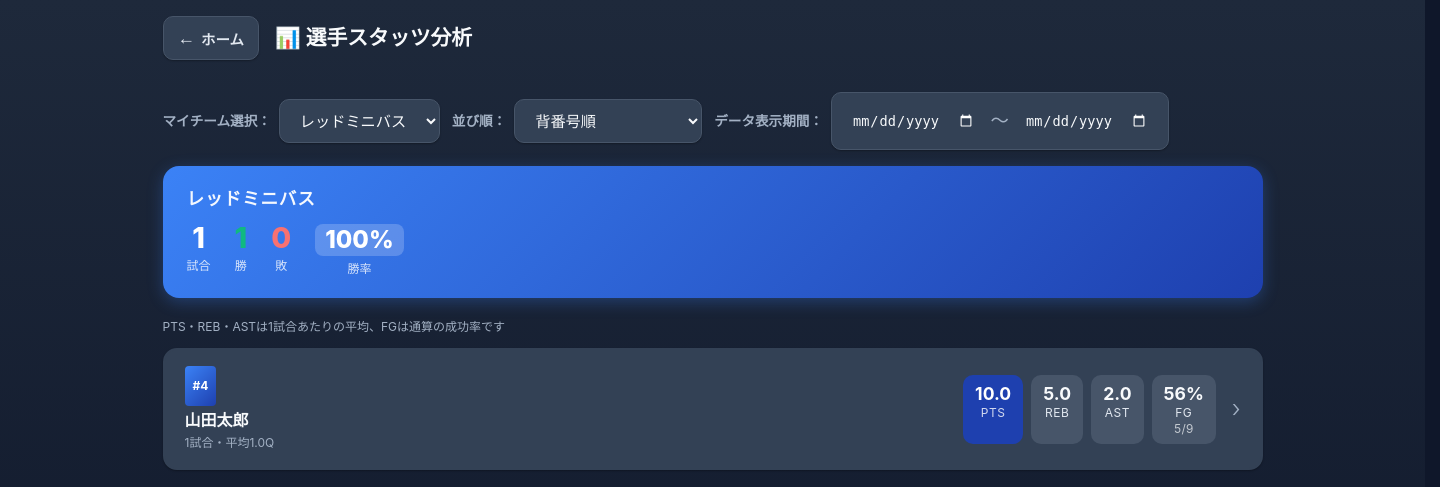
試合のない期間で絞り込んだとき › 期間を解除するボタンが残る
Type "2027-01-01" into the date field named "データ表示期間の開始日" at (913, 121), box [844,99,983,143]
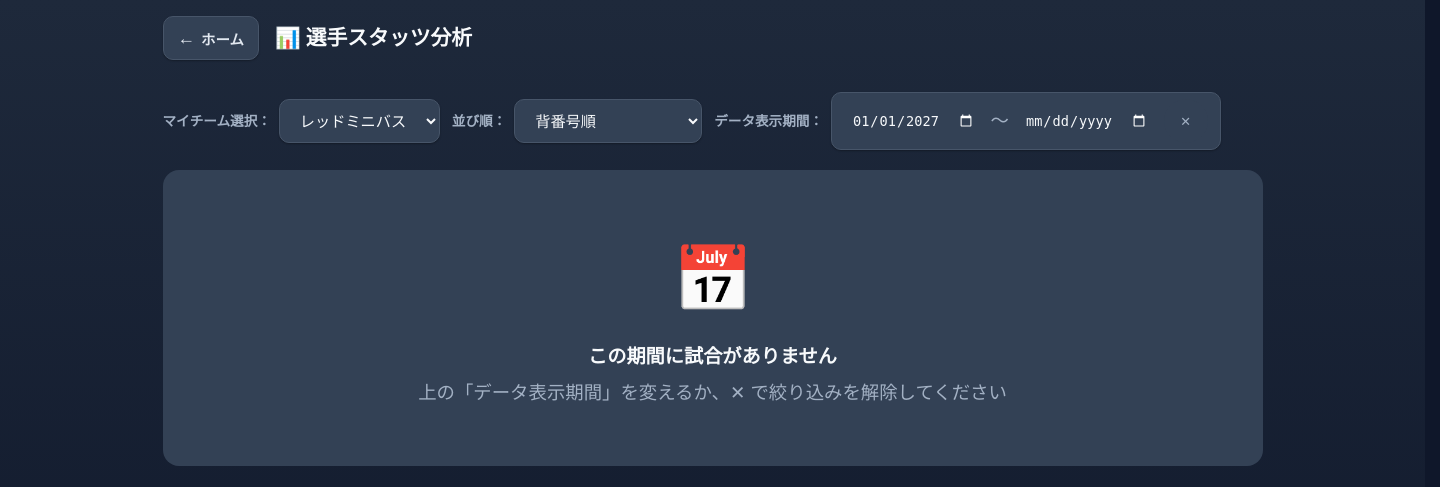
Now the button named "期間の絞り込みを解除" is shown, box [1164,99,1208,143]
